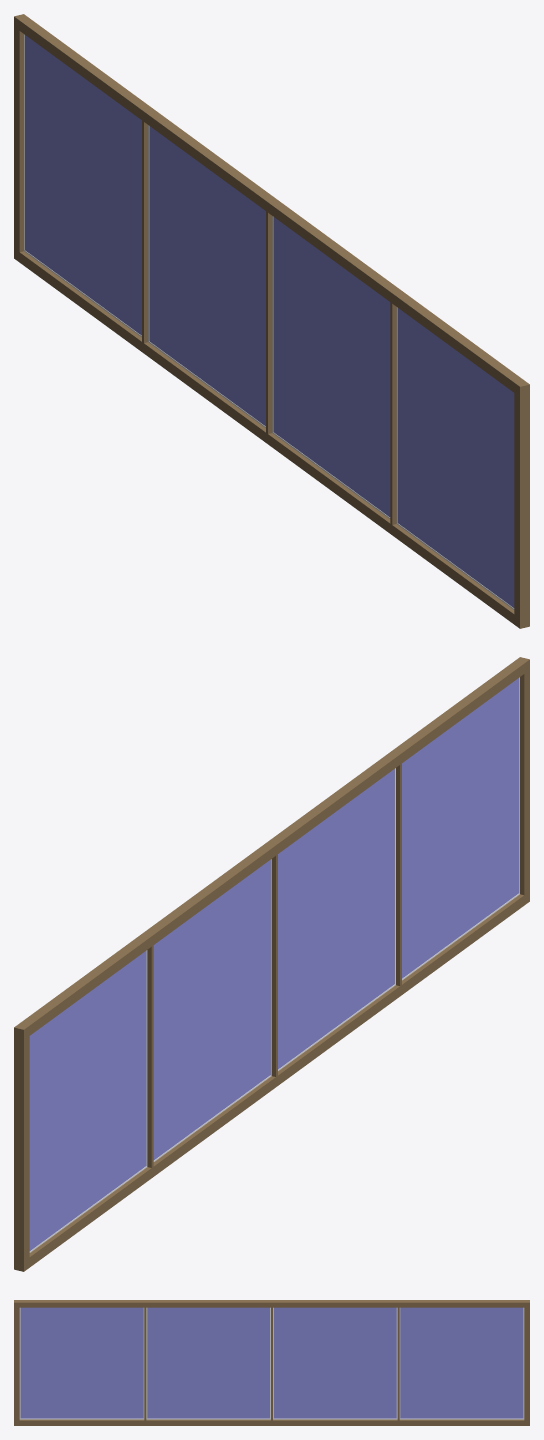
Rendered from window.fbx.
3 views of the same model, one above another, from view 1: azimuth 30°, elevation 25°; view 2: azimuth 150°, elevation 25°; view 3: azimuth 270°, elevation 25° (orthographic). The views are drawn at different scales.
Visible parts, largest first — view 1: Window; view 2: Window; view 3: Window.
Part boxes in pixels (bbox=[...]): Window: bbox=[14, 14, 529, 628]; Window: bbox=[14, 657, 529, 1271]; Window: bbox=[14, 1300, 529, 1425].
Size of the model in its own units: 14 by 328 by 1243.
